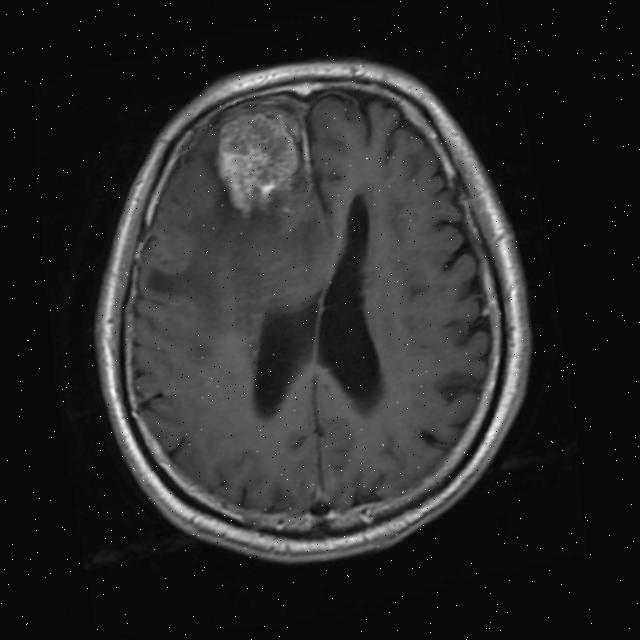Meningioma: (205, 102, 310, 222)
